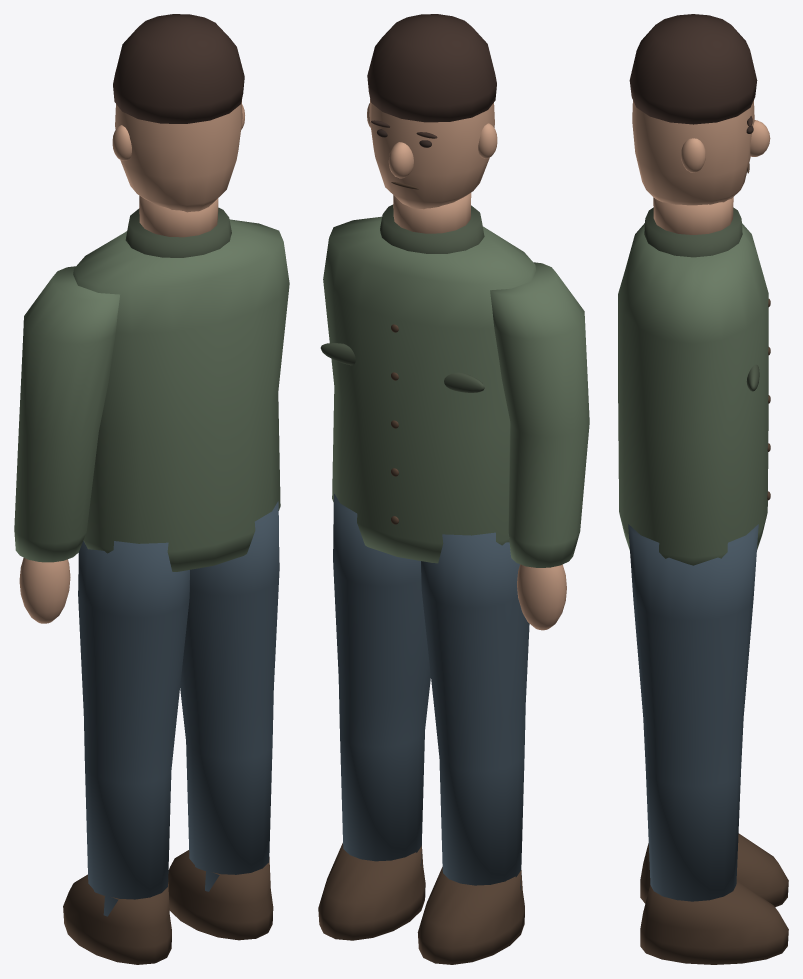
Rendered from villager.glb.
3 renders of one model, left to right at view 1: azimuth 30°, elevation 25°; view 2: azimuth 150°, elevation 25°; view 3: azimuth 270°, elevation 25°, orthographic.
Visible parts, largest first — view 1: Field jacket, Trouser leg, Trouser leg.001, Sleeve, Head_Hair, Head_Face, Walking boot, Walking boot.001, Hand, Standing collar, Neck; view 2: Field jacket, Trouser leg, Trouser leg.001, Sleeve, Head_Hair, Head_Face, Walking boot.001, Walking boot, Hand, Standing collar, Neck, Head_Nose (+1 smaller); view 3: Field jacket, Trouser leg.001, Head_Hair, Walking boot.001, Head_Face, Walking boot, Standing collar, Neck, Head_Ear.001, Head_Nose.
Part boxes in pixels (x1,y1,x2,y2): Field jacket: [73, 219, 289, 571]; Trouser leg: [78, 541, 189, 916]; Trouser leg.001: [180, 501, 279, 891]; Sleeve: [14, 266, 119, 562]; Head_Hair: [113, 14, 244, 123]; Head_Face: [115, 100, 242, 212]; Walking boot: [63, 874, 171, 964]; Walking boot.001: [168, 850, 273, 940]; Hand: [19, 558, 70, 623]; Standing collar: [125, 207, 231, 257]; Neck: [139, 195, 218, 237]; Field jacket: [323, 216, 536, 563]; Trouser leg: [421, 532, 529, 889]; Trouser leg.001: [333, 494, 430, 865]; Sleeve: [490, 262, 589, 567]; Head_Hair: [367, 14, 496, 122]; Head_Face: [369, 99, 494, 209]; Walking boot.001: [318, 843, 425, 940]; Walking boot: [417, 867, 524, 964]; Hand: [517, 564, 566, 630]; Standing collar: [380, 204, 484, 253]; Neck: [393, 193, 471, 233]; Head_Nose: [388, 142, 413, 178]; Field jacket: [618, 223, 768, 565]; Trouser leg.001: [628, 524, 758, 901]; Head_Hair: [629, 14, 757, 124]; Walking boot.001: [640, 881, 788, 964]; Head_Face: [632, 100, 754, 205]; Walking boot: [640, 833, 788, 907]; Standing collar: [644, 207, 742, 257]; Neck: [653, 197, 733, 234]; Head_Ear.001: [681, 138, 705, 172]; Head_Nose: [750, 120, 770, 156].
Size of the model in its own units: 0.589 by 1.98 by 0.34.
